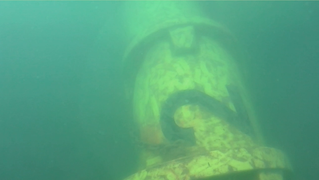2: (160, 83, 258, 145)
pipe: (119, 1, 292, 180)
